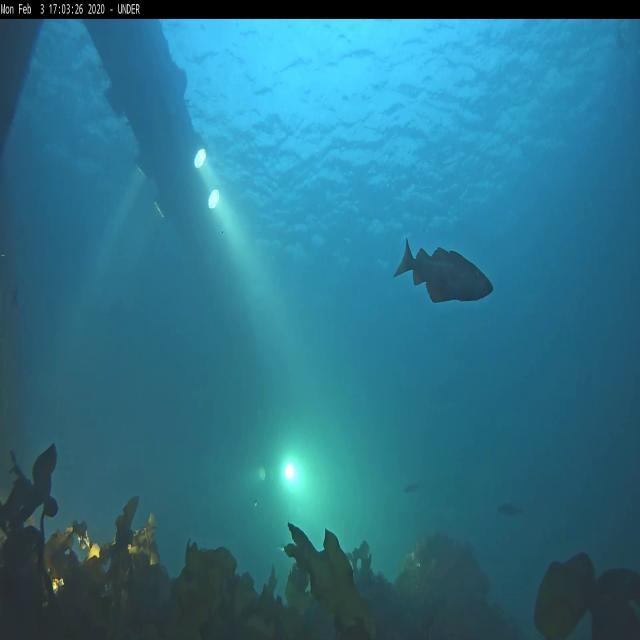fish: (393, 238, 494, 304), (496, 503, 526, 517), (402, 482, 420, 496)
